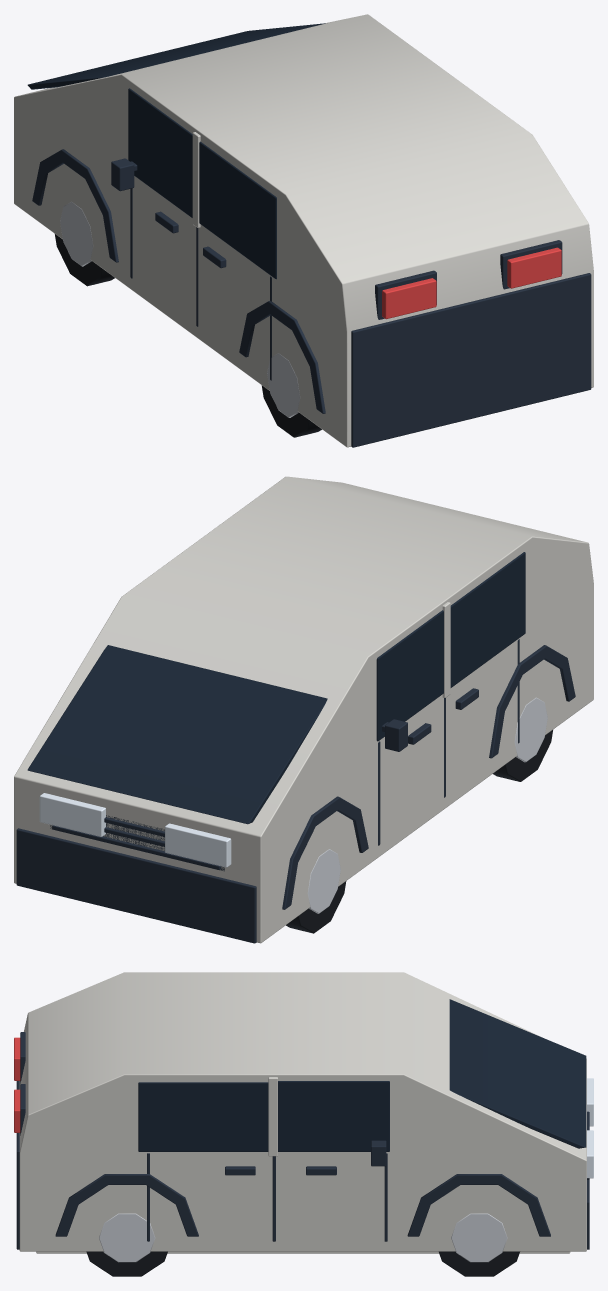
Rendered from veh_car_compact_01.glb.
3 views of the same model, one above another, from view 1: azimuth 30°, elevation 25°; view 2: azimuth 150°, elevation 25°; view 3: azimuth 270°, elevation 25° (orthographic). The views are drawn at different scales.
Parts seen in each view (by area): view 1: VEH_CAR_COMPACT_01_ROOT; view 2: VEH_CAR_COMPACT_01_ROOT; view 3: VEH_CAR_COMPACT_01_ROOT.
Boxes of the visible parts, x1,y1,x2,y2 form: VEH_CAR_COMPACT_01_ROOT: [14, 14, 593, 447]; VEH_CAR_COMPACT_01_ROOT: [14, 476, 593, 943]; VEH_CAR_COMPACT_01_ROOT: [14, 972, 593, 1276].
Size of what is drawn, in the model's own units: 2.03 by 1.6 by 4.15.
